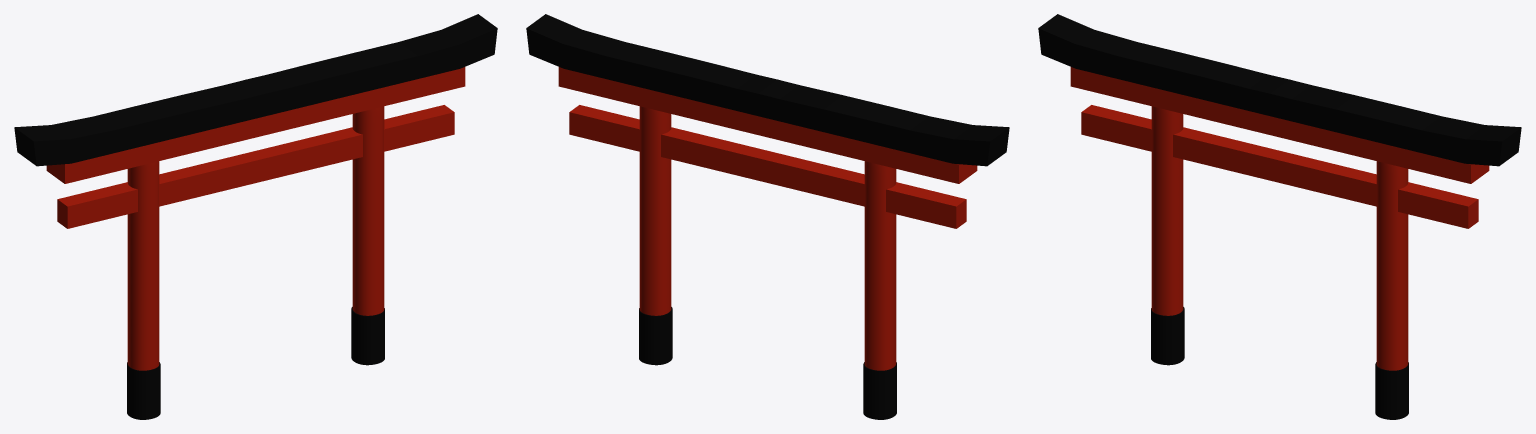
The model's file is toriigate.gltf.
3 views of the same model, side by side, from view 1: azimuth 30°, elevation 25°; view 2: azimuth 150°, elevation 25°; view 3: azimuth 330°, elevation 25° (orthographic).
Visible parts, largest first — view 1: Cube.002, Cube, Cube.001, Cube.003, Plane; view 2: Cube.002, Cube, Cube.001, Cube.003, Plane; view 3: Cube.002, Cube, Cube.001, Cube.003, Plane.
Boxes of the visible parts, <box> form: Cube.002: <box>14,14,497,166</box>; Cube: <box>127,106,384,370</box>; Cube.001: <box>57,105,454,228</box>; Cube.003: <box>46,67,465,183</box>; Plane: <box>127,307,384,419</box>; Cube.002: <box>526,14,1009,166</box>; Cube: <box>639,106,896,370</box>; Cube.001: <box>569,105,966,228</box>; Cube.003: <box>558,67,977,183</box>; Plane: <box>639,307,896,419</box>; Cube.002: <box>1038,14,1521,166</box>; Cube: <box>1151,106,1408,370</box>; Cube.001: <box>1081,105,1478,228</box>; Cube.003: <box>1070,67,1489,183</box>; Plane: <box>1151,307,1408,419</box>.
Size of the model in its own units: 21.63 by 13.71 by 1.57.
